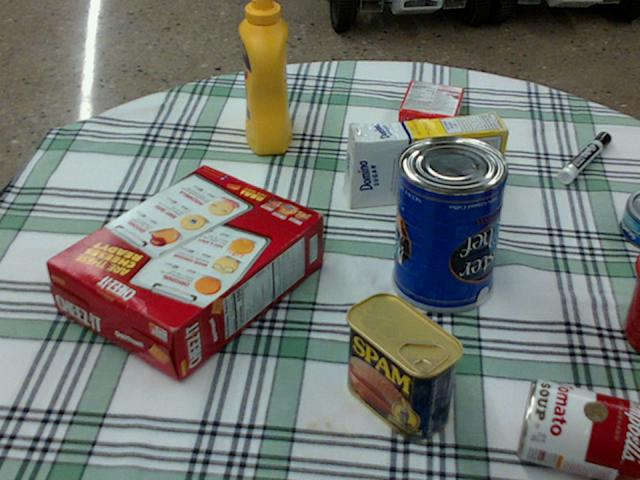cracker_box: (46, 167, 321, 379)
gelatin_box: (397, 80, 463, 136)
large_marker: (557, 131, 610, 182)
master_chef_can: (392, 135, 510, 311)
mug: (623, 253, 639, 353)
mustard_bottle: (238, 0, 290, 153)
potted_meat_can: (346, 292, 463, 438)
sugar_box: (344, 112, 507, 209)
tomato_soup_can: (518, 378, 639, 479)
tuna_fish_can: (620, 190, 639, 247)
